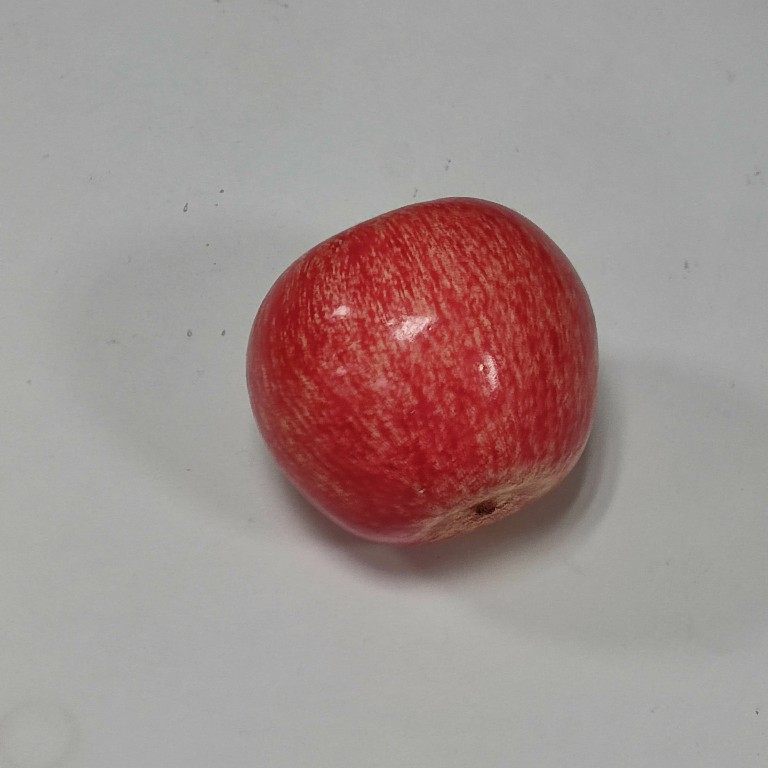fruit_apple: (233, 190, 626, 562)
